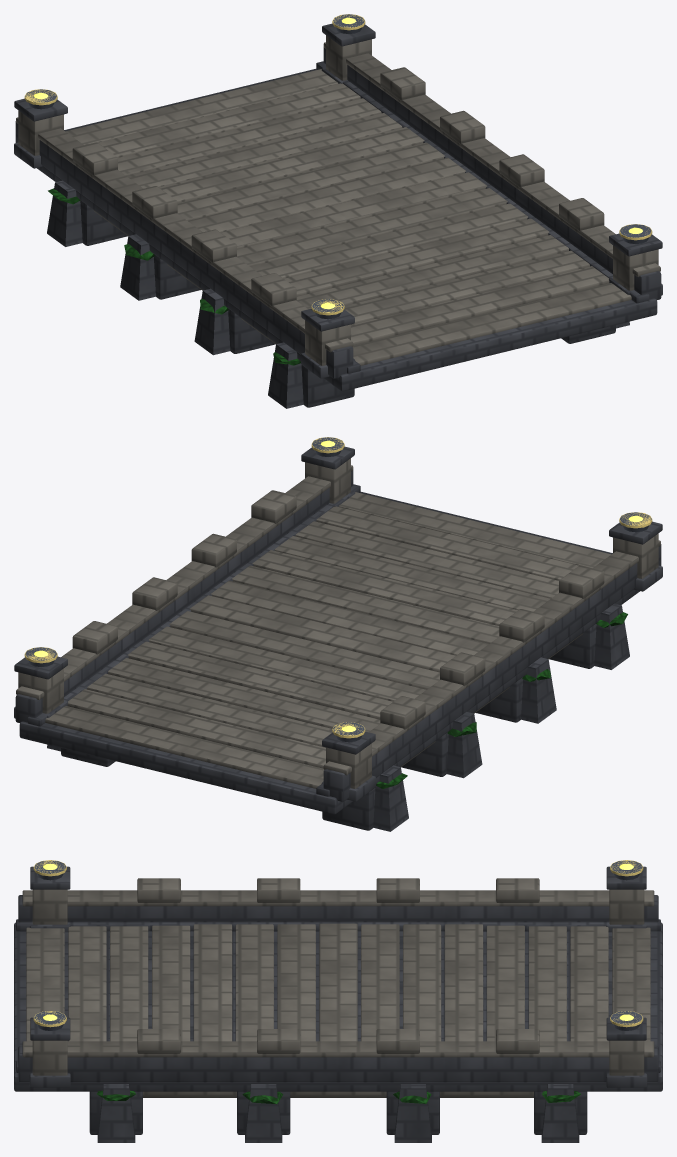
File: prop_stone_bridge.glb
3 renders of one model, top to bottom at view 1: azimuth 30°, elevation 25°; view 2: azimuth 150°, elevation 25°; view 3: azimuth 270°, elevation 25°, orthographic.
Visible parts, largest first — view 1: prop_stone_bridge; view 2: prop_stone_bridge; view 3: prop_stone_bridge.
Boxes of the visible parts, bbox=[...] form: prop_stone_bridge: bbox=[14, 14, 662, 408]; prop_stone_bridge: bbox=[14, 437, 662, 831]; prop_stone_bridge: bbox=[14, 860, 662, 1142].
Size of the model in its own units: 9.6 by 3.1 by 15.2.
6 materials, 4 textured.
